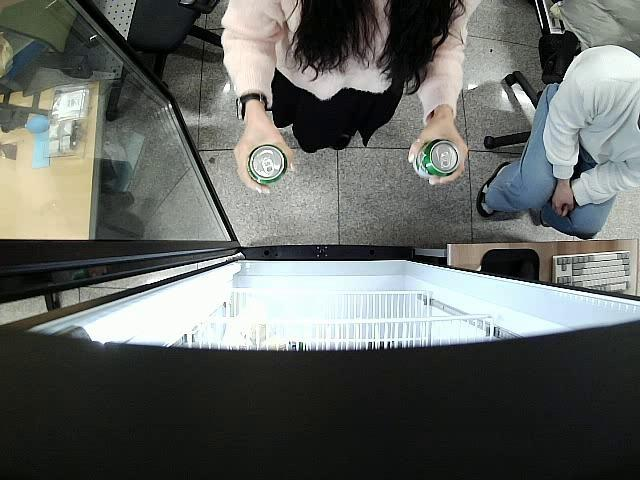12_chilsungCider: (414, 140, 461, 179), (246, 144, 288, 187)
